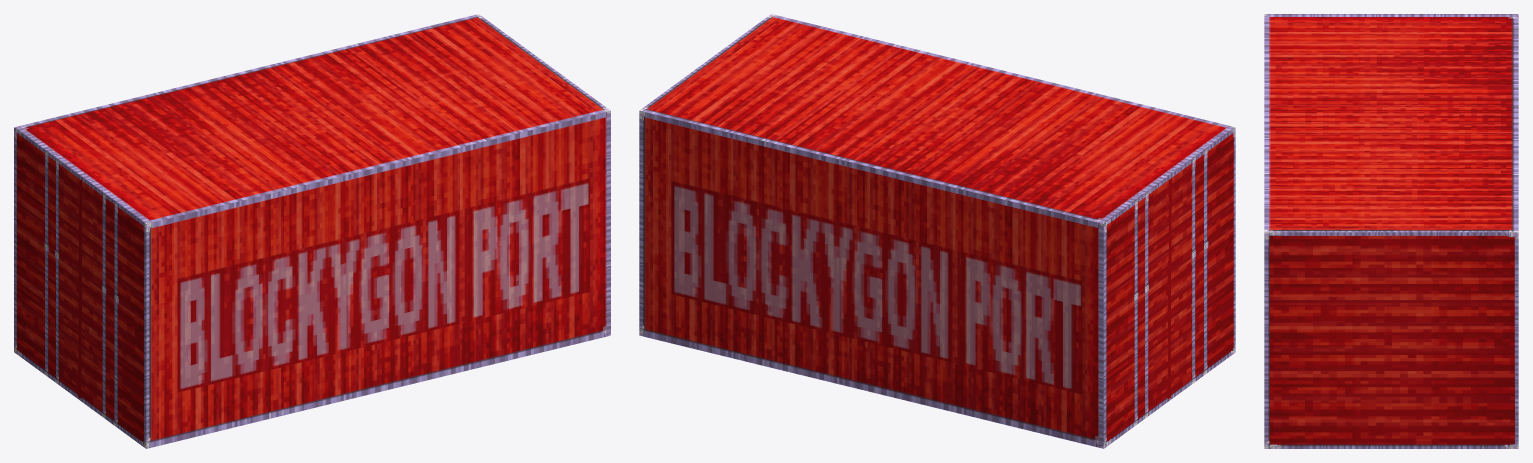
Rendered from BLOCKYGON_RED CONTAINER(CLOSED) .fbx.
3 renders of one model, left to right at view 1: azimuth 30°, elevation 25°; view 2: azimuth 150°, elevation 25°; view 3: azimuth 270°, elevation 25°, orthographic. The views are drawn at different scales.
Visible parts, largest first — view 1: BLOCKYGON_RED_CONTAINER_CLOSED__; view 2: BLOCKYGON_RED_CONTAINER_CLOSED__; view 3: BLOCKYGON_RED_CONTAINER_CLOSED__.
Part boxes in pixels (x1,y1,x2,y2): BLOCKYGON_RED_CONTAINER_CLOSED__: [14, 14, 610, 448]; BLOCKYGON_RED_CONTAINER_CLOSED__: [639, 14, 1235, 448]; BLOCKYGON_RED_CONTAINER_CLOSED__: [1264, 14, 1518, 448].
Size of the model in its own units: 441 by 204 by 217.
1 material, 1 textured.
